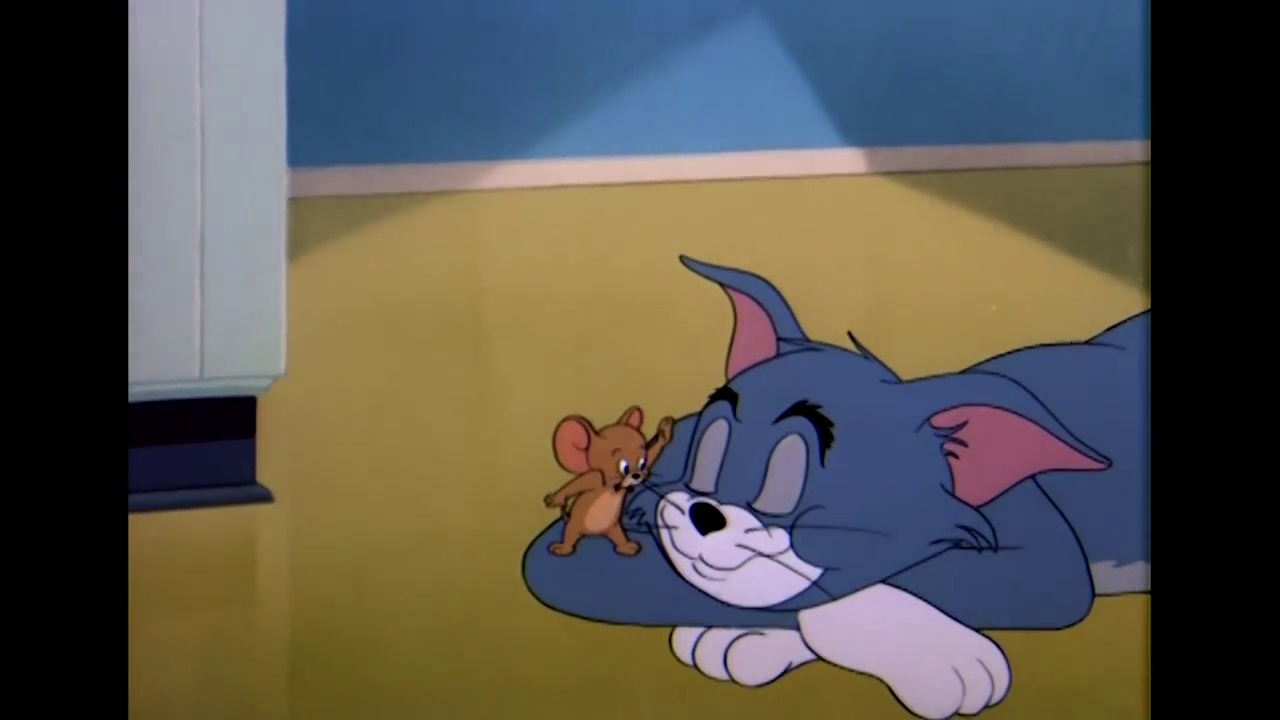tom: (655, 250, 1118, 619)
